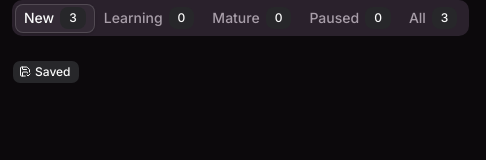
it: ListRow › removes the row from the page when the save write succeeds
Click the button "Saved": point(46, 72) [12,60,80,84]
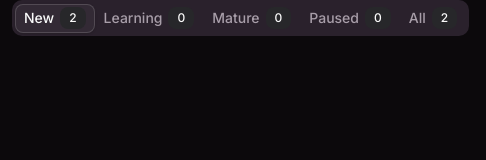
expect the button "Save" is gone: met
expect the tab "New 2" is shown: met, box [15,4,95,32]
